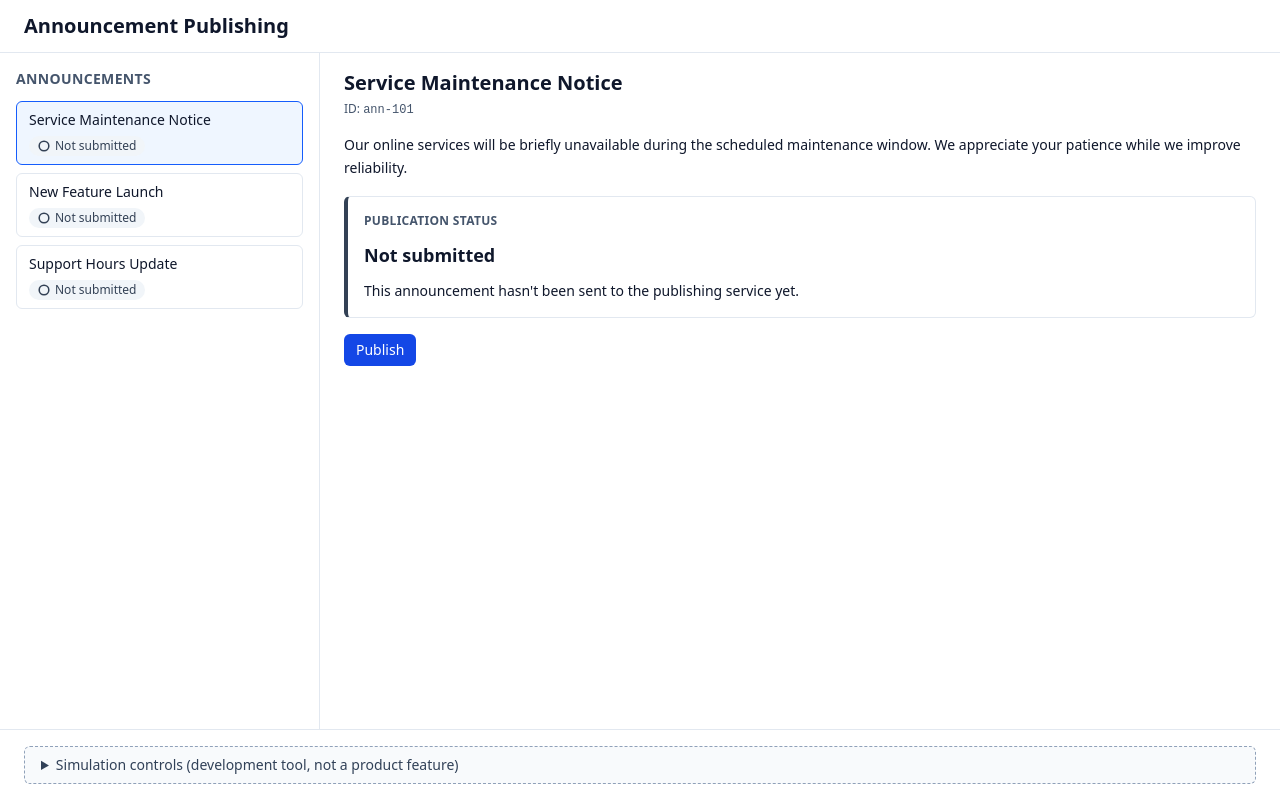
Scenario: switching announcements while one is submitting › ann-102 shows an enabled Publish while ann-101 is still sending
Expected: the button "Service Maintenance Notice Not submitted" is shown, [16, 101, 303, 165]
Click the button "Publish": [380, 350] box [344, 334, 416, 366]
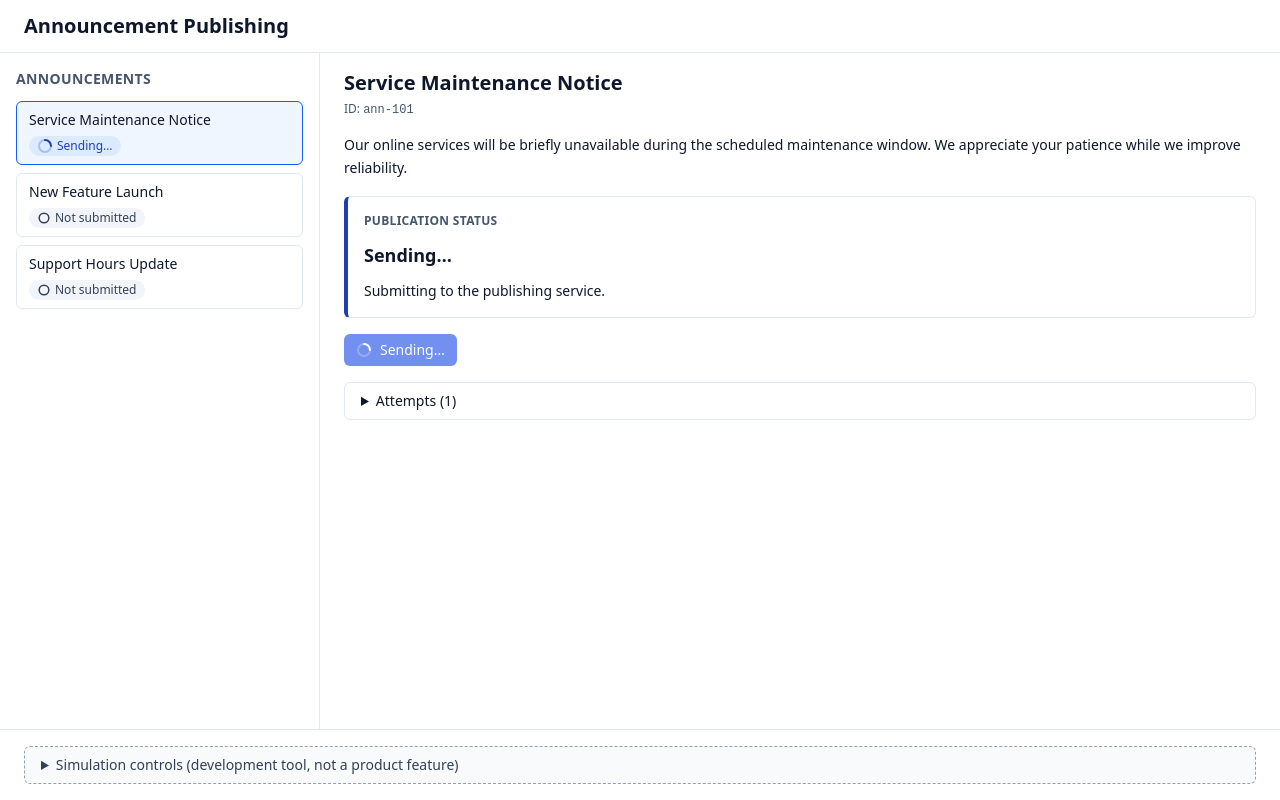
Result: the button "Sending…" is disabled at [344, 334, 457, 366]
Click the button "New Feature Launch Not submitted": [96, 192] box [16, 173, 303, 237]
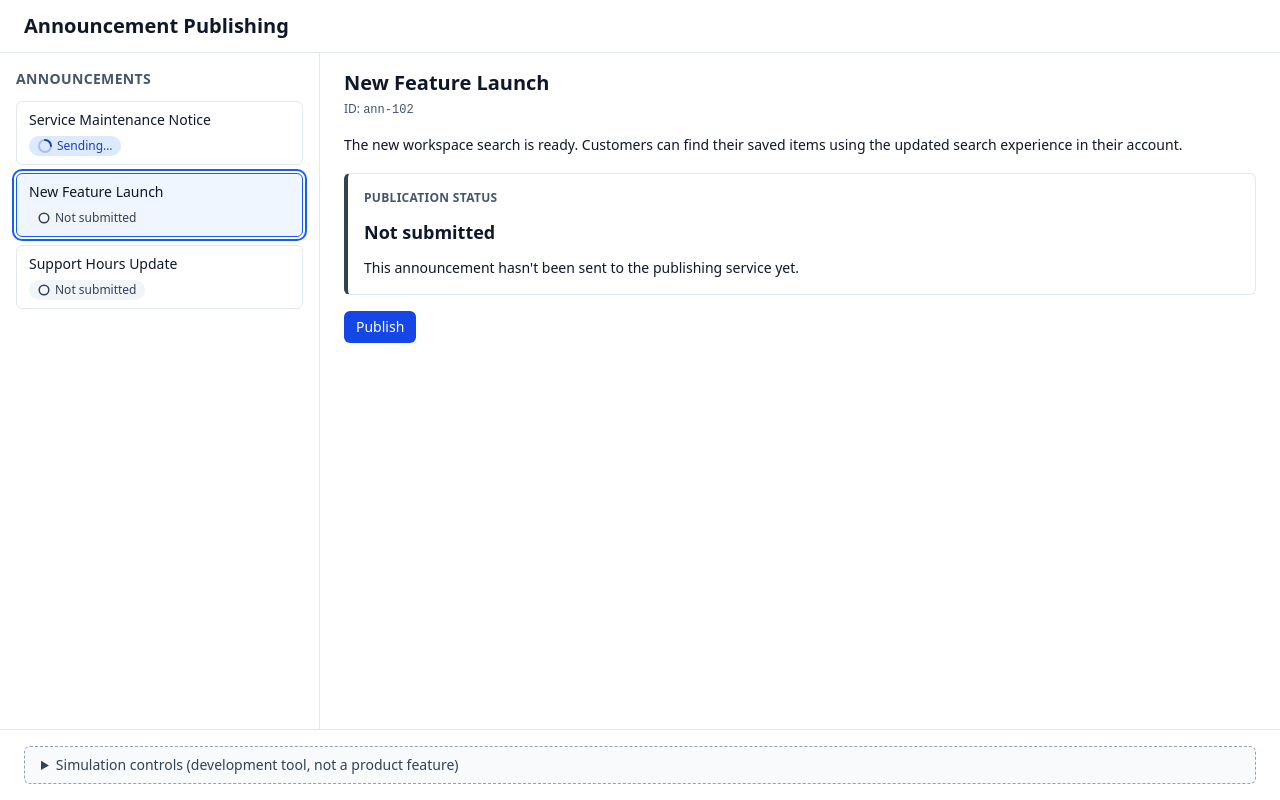
Result: the button "Service Maintenance Notice Sending…" is shown at [16, 101, 303, 165]
Result: the element "New Feature Launch" is shown at [344, 69, 1256, 343]
Result: the button "Publish" is enabled at [344, 311, 416, 343]
